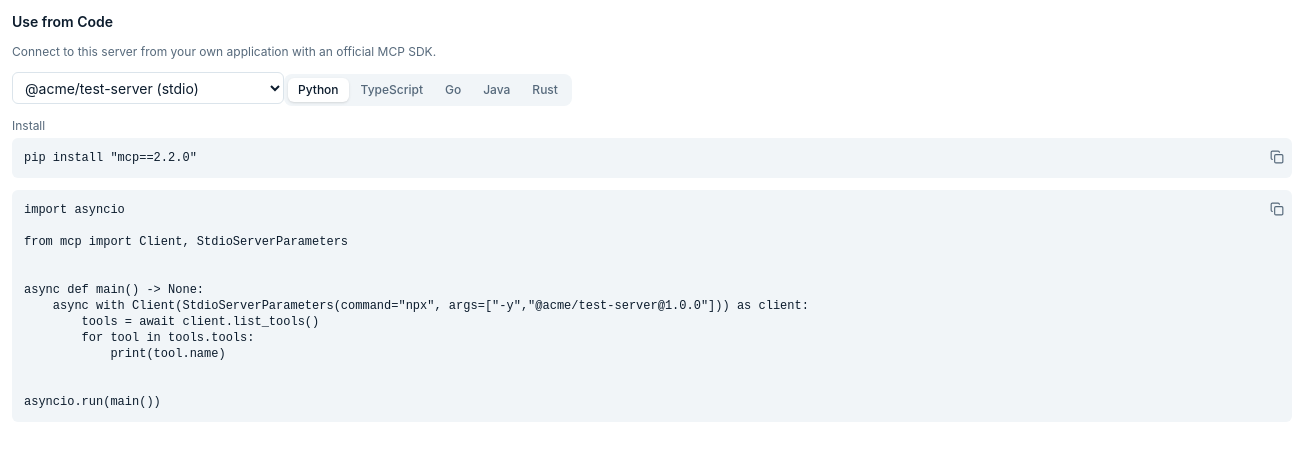
Test case: MCPCodeSnippets › offers a connection selector only when there are several sources
The image size is (1292, 455).
Select "https://mcp.example.com/sse (sse)" in the dropdown named "select code connection": point(148, 88) top-left (12, 72), bottom-right (284, 104)
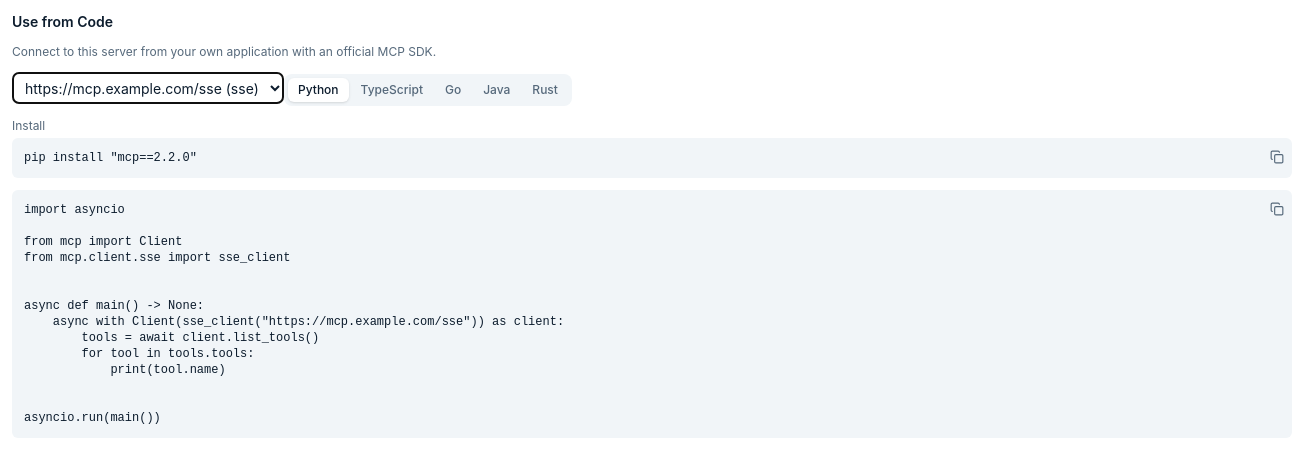
Expected: the text "sse_client(\"https://mcp.example.com/sse\")" is shown, top-left (24, 202), bottom-right (564, 424)
